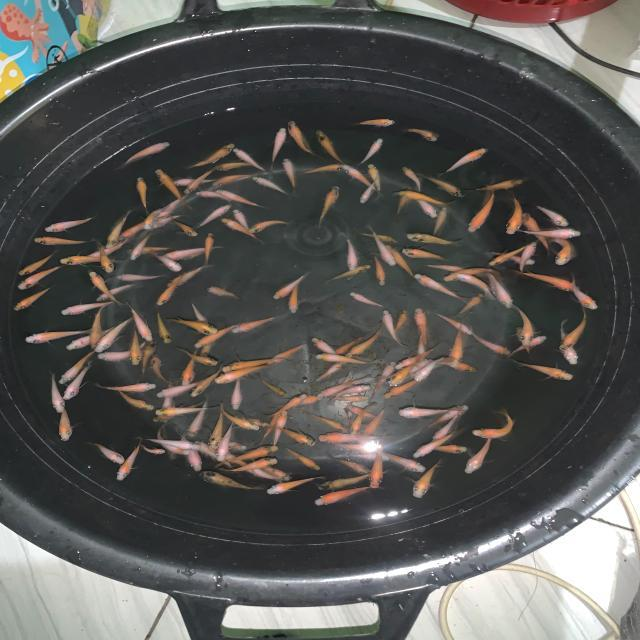nila: (154, 168, 200, 210), (198, 469, 266, 497), (116, 140, 176, 170), (92, 316, 138, 354), (409, 273, 466, 303), (464, 188, 501, 234), (514, 269, 582, 294), (55, 348, 99, 386), (342, 324, 388, 360), (470, 408, 518, 442), (114, 435, 148, 483), (310, 485, 380, 508), (512, 358, 576, 383), (220, 217, 275, 246), (437, 146, 490, 176), (375, 356, 437, 381), (552, 308, 588, 351), (191, 320, 241, 350), (218, 444, 280, 468), (22, 325, 92, 346), (339, 164, 382, 198), (194, 439, 238, 472), (519, 211, 554, 252), (150, 399, 207, 424), (220, 354, 298, 372), (62, 362, 98, 401), (64, 326, 116, 353), (313, 130, 352, 166), (325, 450, 373, 478), (392, 342, 440, 370), (379, 242, 414, 280), (411, 429, 456, 458), (263, 475, 325, 496), (114, 383, 156, 414), (15, 264, 65, 290), (310, 336, 350, 368), (188, 367, 228, 399), (270, 270, 310, 302), (315, 374, 368, 398), (188, 142, 235, 169), (213, 364, 273, 385), (89, 272, 124, 308), (367, 226, 397, 268), (394, 188, 454, 209), (504, 334, 552, 360), (318, 264, 372, 287), (418, 172, 464, 199), (434, 311, 478, 339), (471, 330, 512, 360), (286, 120, 318, 158), (379, 307, 408, 348), (12, 285, 56, 312), (157, 244, 223, 262), (411, 463, 442, 501), (97, 340, 148, 363), (155, 424, 190, 457), (380, 450, 428, 474), (80, 238, 128, 262), (382, 375, 428, 400), (388, 351, 419, 388), (569, 275, 600, 312), (14, 250, 58, 276), (41, 213, 98, 233), (166, 264, 213, 288), (556, 320, 580, 367), (462, 439, 494, 474), (191, 203, 231, 231), (266, 340, 309, 366), (485, 242, 528, 268), (424, 403, 470, 427), (234, 313, 284, 335), (178, 430, 204, 472), (154, 274, 186, 308), (214, 188, 268, 208), (232, 147, 272, 174), (529, 203, 574, 227), (316, 185, 341, 228), (104, 210, 132, 248), (405, 231, 464, 249), (165, 316, 218, 336), (264, 392, 308, 416), (152, 378, 176, 422), (314, 474, 372, 492), (348, 401, 377, 437), (284, 446, 324, 472), (183, 166, 220, 194), (247, 174, 292, 197), (427, 414, 461, 444), (186, 398, 212, 437), (303, 411, 349, 433), (258, 408, 286, 444), (152, 380, 208, 398), (56, 253, 115, 270), (327, 384, 372, 406), (218, 409, 261, 432), (503, 194, 526, 237), (89, 304, 110, 351), (454, 273, 488, 302), (512, 302, 536, 343), (469, 176, 526, 193), (274, 425, 318, 447), (370, 361, 394, 401), (129, 302, 153, 342), (94, 282, 142, 302), (548, 236, 580, 266), (136, 436, 203, 450), (366, 438, 384, 490), (90, 440, 126, 466), (314, 349, 369, 366), (58, 302, 115, 318), (489, 274, 515, 309), (267, 127, 288, 170), (394, 404, 450, 420), (414, 354, 446, 382), (92, 380, 156, 394), (451, 293, 485, 319), (45, 370, 67, 410), (344, 406, 392, 424), (208, 406, 226, 454), (490, 248, 538, 266), (399, 247, 453, 263), (247, 464, 292, 483), (33, 234, 94, 248), (216, 420, 236, 462), (356, 137, 384, 167), (148, 354, 174, 386), (516, 241, 540, 275), (433, 356, 478, 374), (398, 164, 425, 194), (214, 450, 254, 470), (273, 393, 323, 409), (228, 372, 248, 412), (366, 162, 386, 202), (223, 458, 276, 473), (155, 194, 188, 218), (518, 228, 584, 240), (442, 268, 498, 282), (412, 190, 438, 220), (343, 290, 386, 308), (242, 466, 290, 482), (285, 282, 309, 314), (179, 349, 199, 387), (179, 348, 219, 367), (330, 333, 364, 355), (512, 326, 534, 360), (362, 407, 386, 438), (206, 284, 245, 303), (318, 433, 392, 443), (118, 218, 148, 242), (166, 218, 202, 238), (400, 124, 440, 142), (57, 402, 74, 444), (313, 361, 344, 384), (258, 374, 290, 396), (128, 324, 144, 368), (298, 163, 352, 176), (168, 174, 218, 188), (155, 406, 213, 418), (357, 176, 381, 205), (95, 240, 116, 273), (341, 236, 360, 272), (280, 158, 298, 196), (353, 231, 398, 246), (448, 324, 464, 366), (128, 233, 152, 261), (210, 172, 252, 188), (271, 410, 289, 447), (413, 306, 431, 343), (150, 252, 183, 272), (429, 205, 449, 238), (327, 372, 352, 398), (142, 205, 169, 229), (141, 339, 158, 376), (194, 190, 233, 206), (156, 312, 174, 346), (393, 185, 411, 219), (198, 327, 218, 357), (232, 205, 252, 234), (223, 416, 271, 428), (248, 220, 289, 234), (148, 213, 186, 228), (134, 176, 149, 214), (187, 300, 210, 324), (414, 444, 469, 454), (330, 442, 384, 452), (210, 438, 250, 451), (115, 272, 167, 282), (424, 262, 466, 274), (350, 118, 400, 128), (372, 251, 386, 286), (347, 452, 393, 462), (126, 246, 177, 255), (203, 232, 216, 267), (212, 162, 256, 172), (394, 308, 410, 332), (487, 272, 500, 300), (414, 333, 426, 362), (140, 444, 168, 456), (336, 394, 370, 402)
